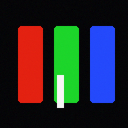4 line_v: (57, 75, 63, 107)
